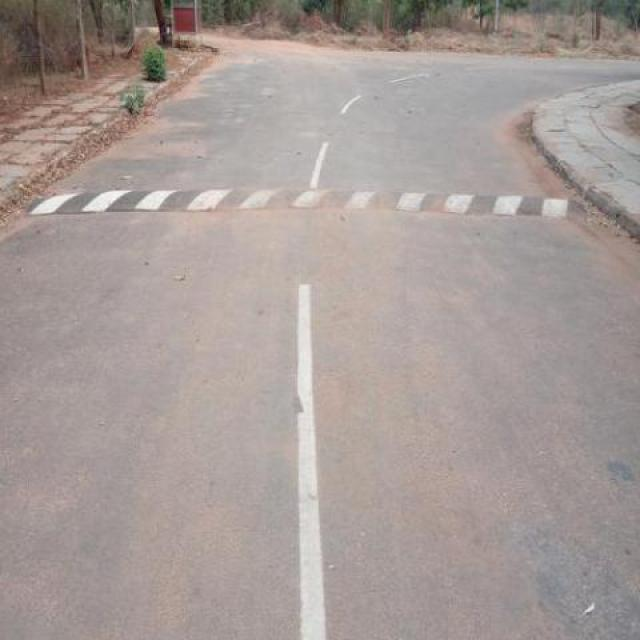Speed Bump: (22, 182, 582, 225)
